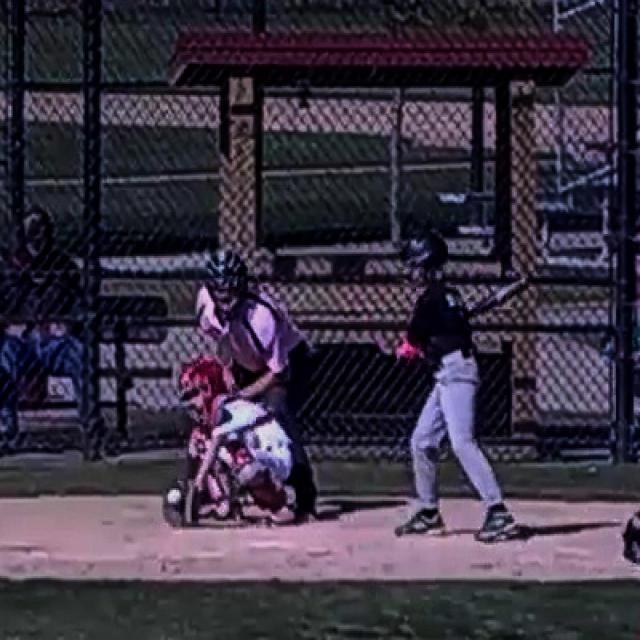baseball: (168, 489, 180, 503)
